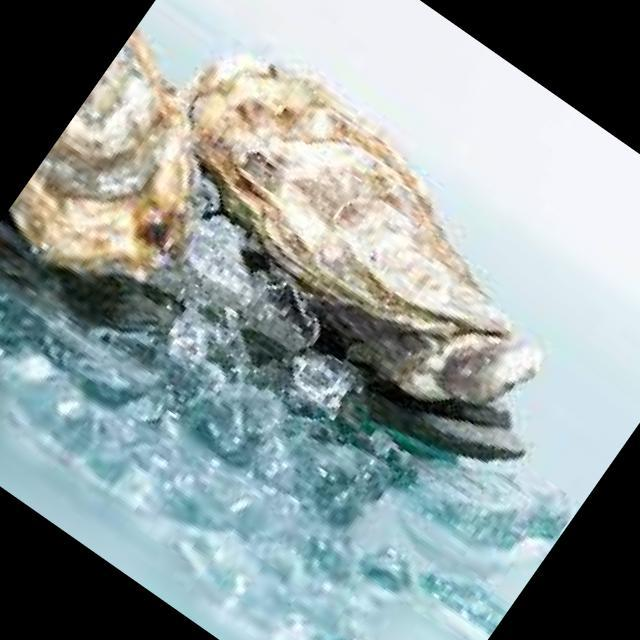Oyster- Indeterminate: (10, 31, 200, 282)
Oyster-Closed: (180, 55, 527, 398)
